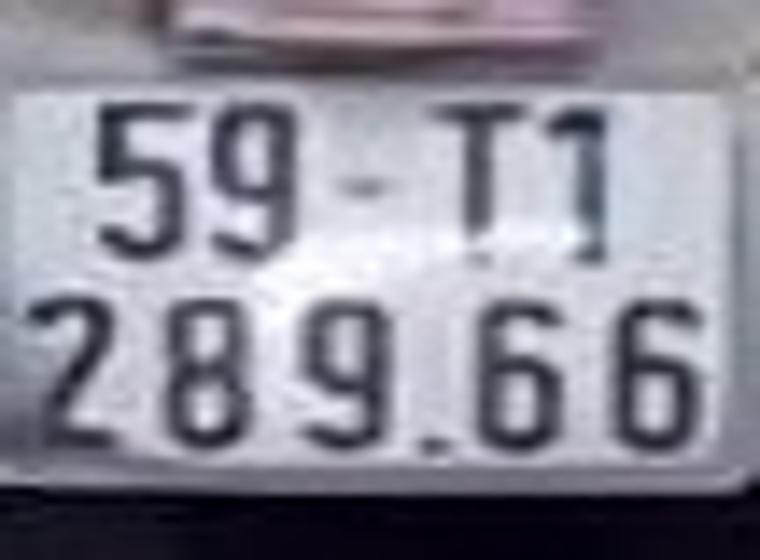-: (337, 173, 381, 197)
.: (422, 434, 445, 456)
1: (546, 106, 607, 267)
2: (26, 293, 114, 449)
5: (95, 104, 188, 263)
6: (610, 296, 701, 451), (480, 298, 561, 452)
8: (167, 295, 250, 455)
9: (299, 299, 393, 452), (211, 103, 293, 259)
T: (419, 99, 527, 271)
